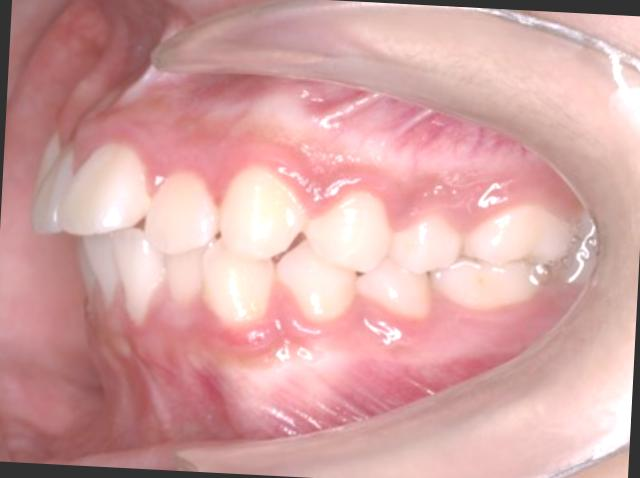canine class II 1/2: (198, 158, 362, 350)
molar class III 1/4: (429, 201, 579, 322)
